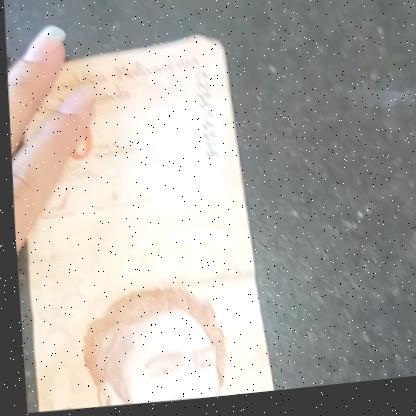twenty-front-vef: (3, 29, 282, 416)
